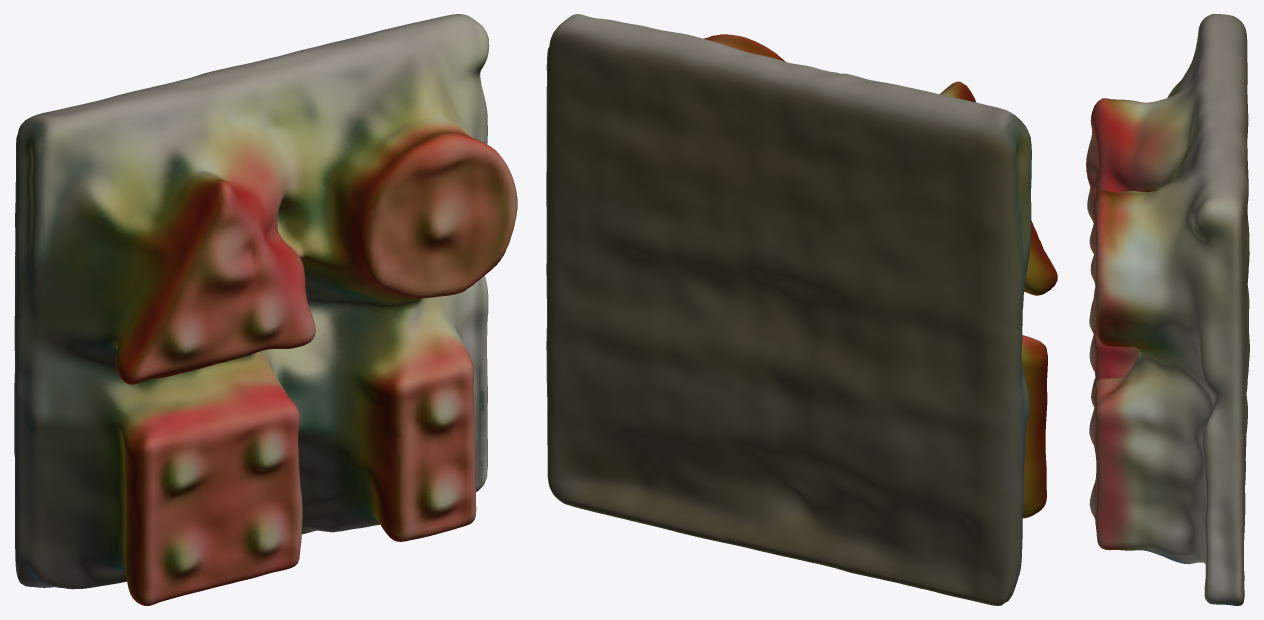
Rendered from sorting_board.glb.
3 views of the same model, side by side, from view 1: azimuth 30°, elevation 25°; view 2: azimuth 150°, elevation 25°; view 3: azimuth 270°, elevation 25° (orthographic). The views are drawn at different scales.
Size of the model in its own units: 0.9991 by 0.9882 by 0.353.
